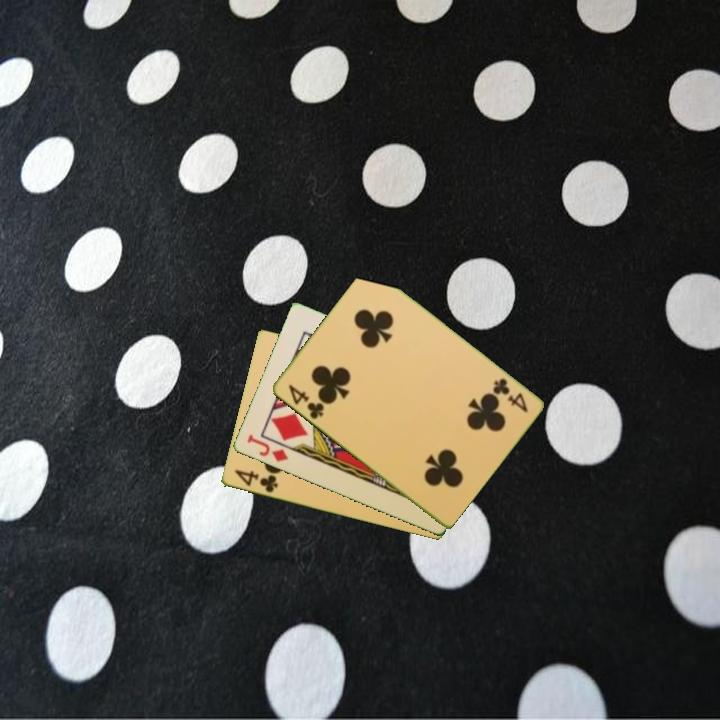4c: (489, 374, 531, 416), (284, 381, 327, 422), (231, 466, 281, 496)
Jd: (243, 431, 291, 465)
